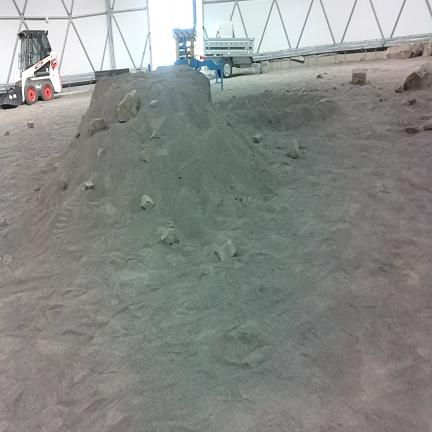Rock: (403, 62, 432, 90), (117, 90, 138, 122), (217, 240, 236, 262), (386, 43, 411, 59), (161, 228, 179, 246), (90, 118, 106, 135), (287, 138, 299, 159), (353, 69, 366, 85), (141, 195, 154, 209), (412, 42, 424, 57), (404, 123, 419, 134), (422, 39, 431, 56), (269, 113, 281, 125), (60, 173, 68, 190), (422, 118, 431, 130), (253, 133, 262, 144), (4, 254, 12, 265), (141, 151, 149, 162), (85, 180, 94, 189), (0, 217, 8, 227), (53, 162, 60, 172), (378, 94, 387, 101), (150, 132, 159, 139), (97, 148, 104, 157), (395, 86, 403, 93), (150, 100, 158, 107), (408, 99, 416, 105), (74, 132, 80, 139), (27, 122, 33, 128), (34, 186, 39, 191), (317, 74, 323, 78), (235, 193, 238, 200), (5, 131, 9, 135)
